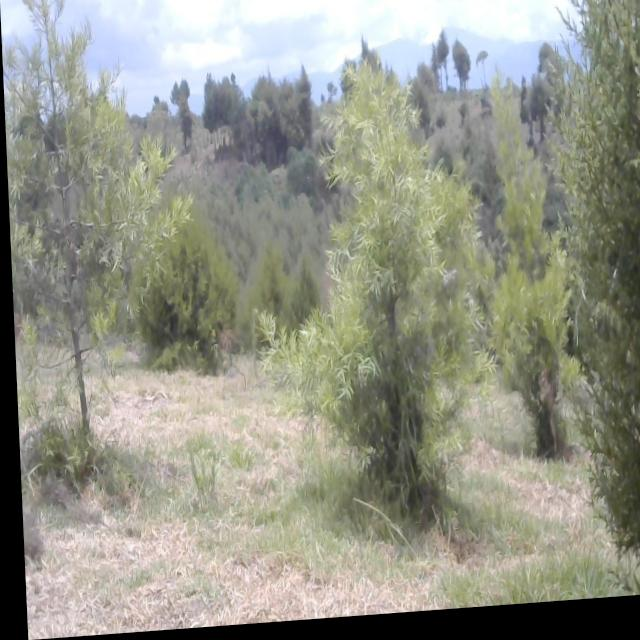Podocarpus falcatus: (6, 0, 203, 524), (289, 60, 483, 534), (476, 97, 584, 453)
